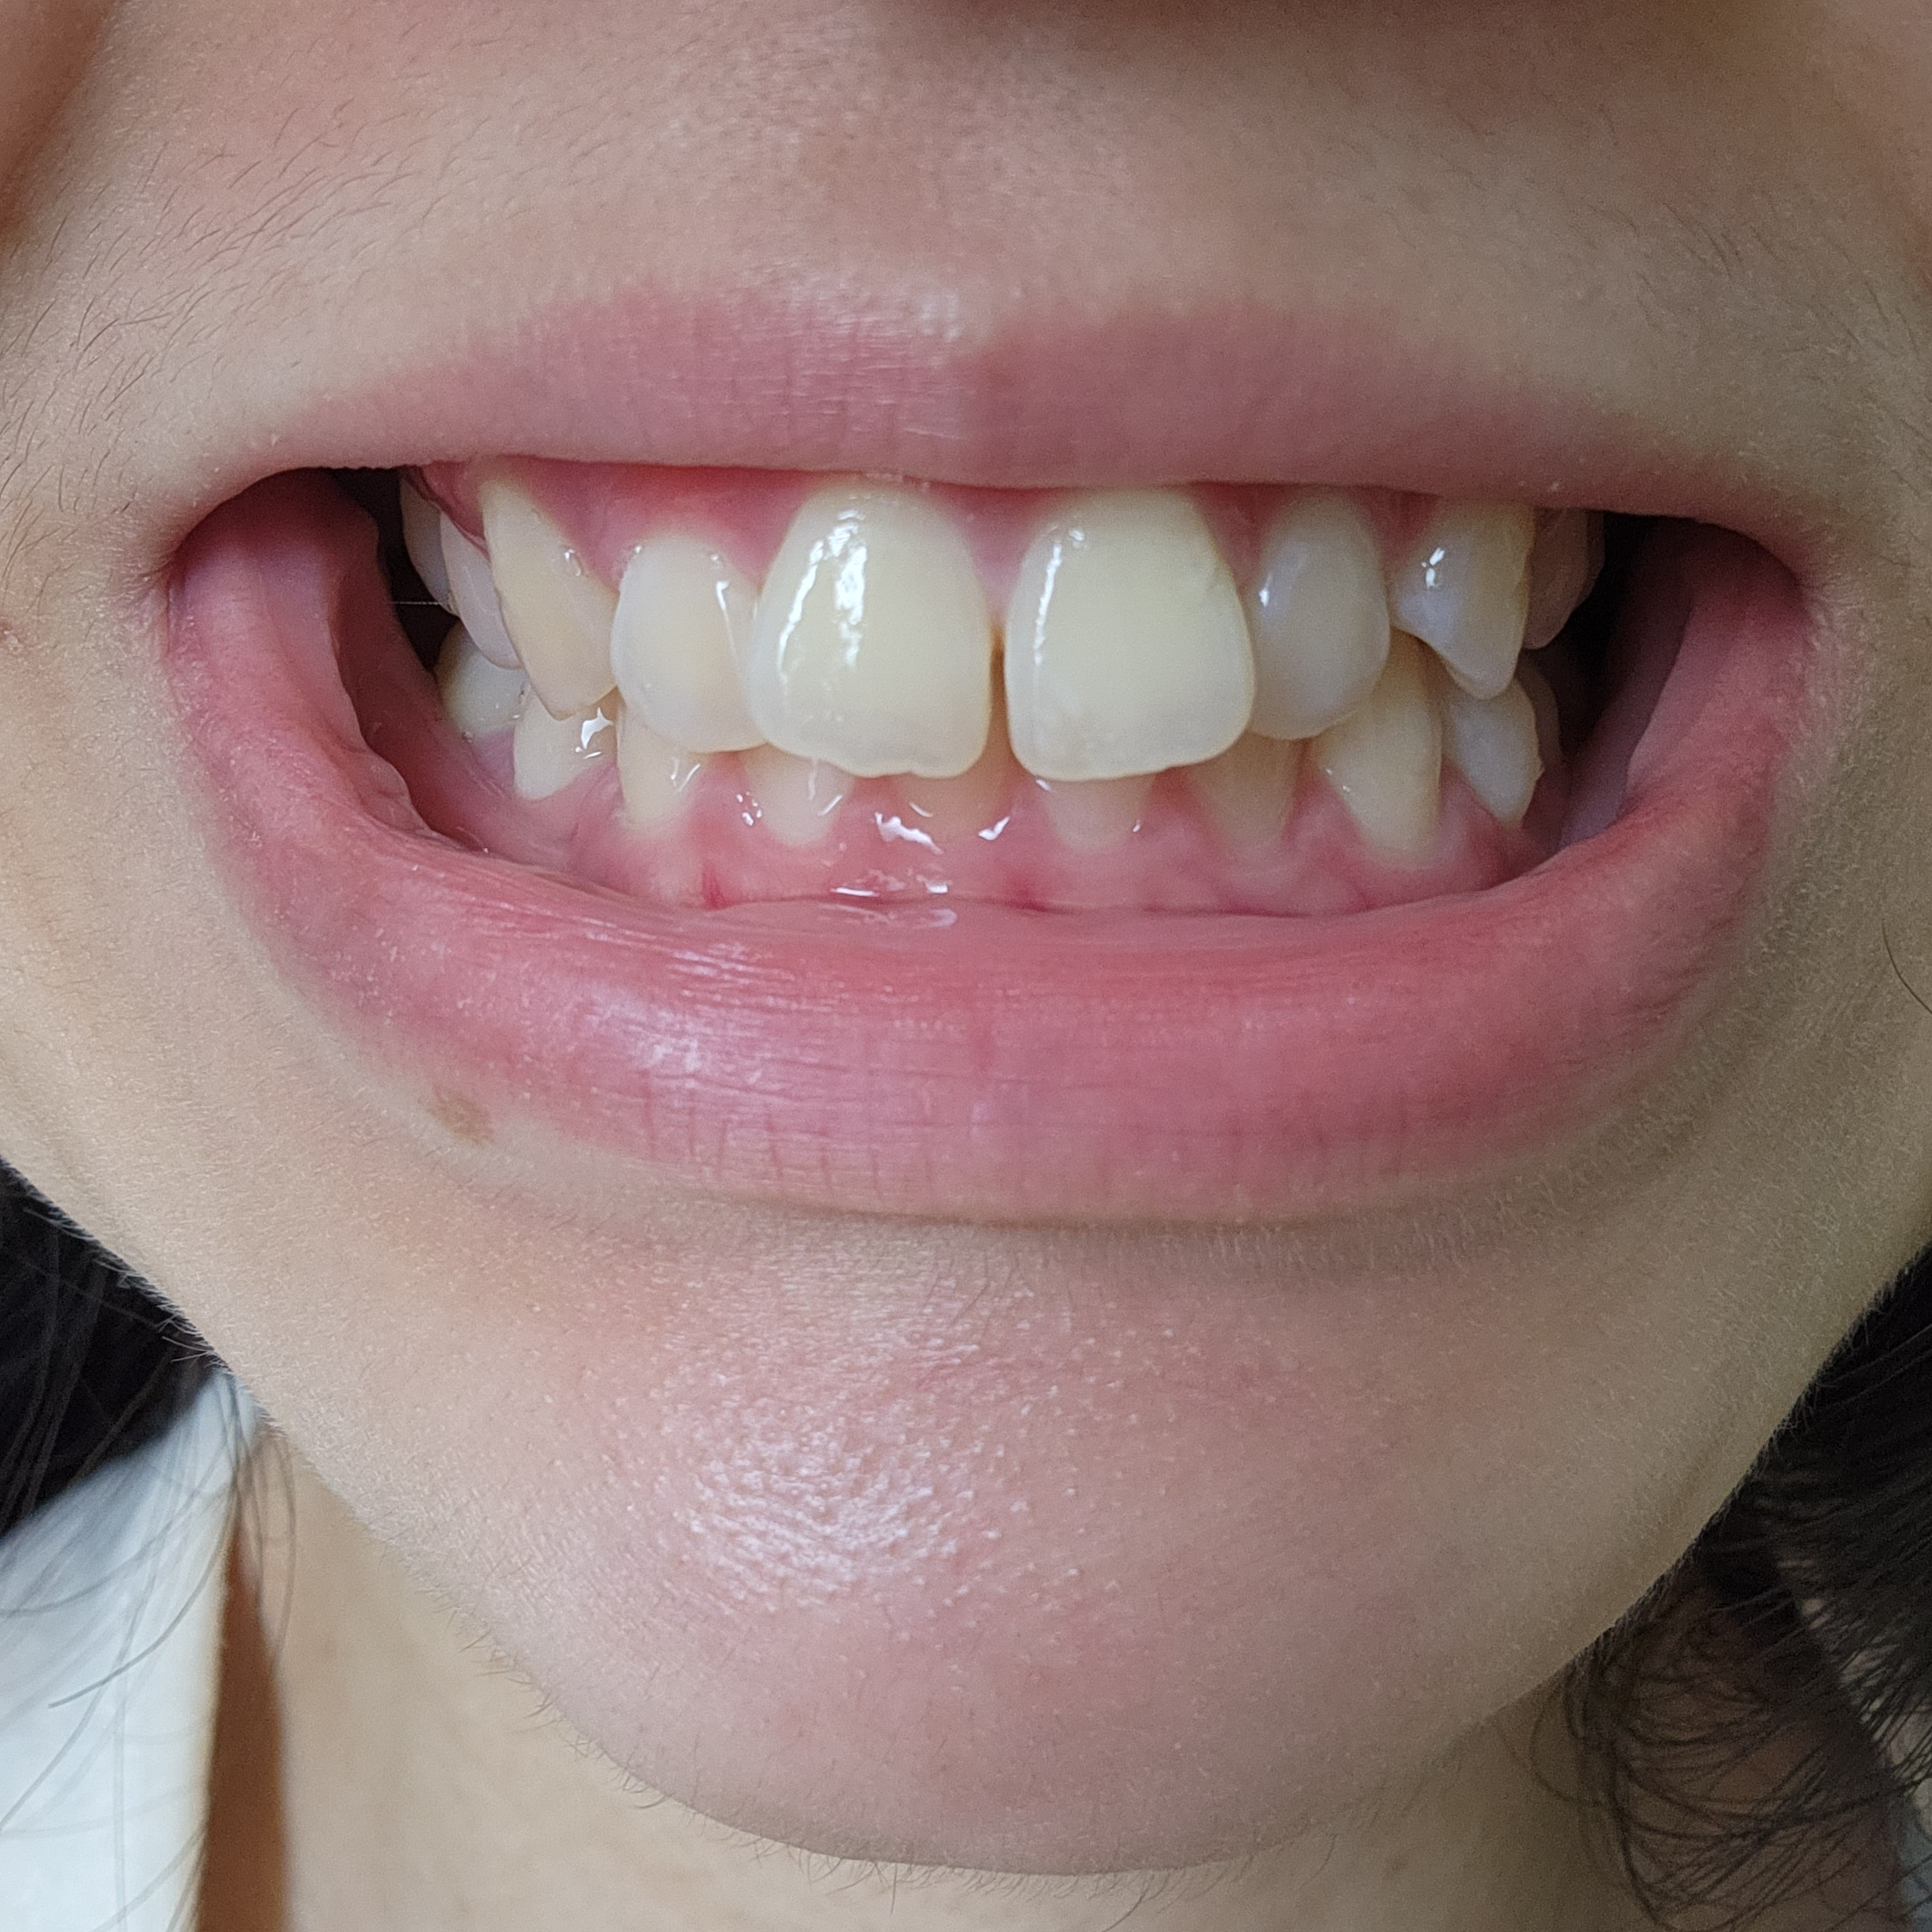teeth: (1021, 488, 1249, 773), (757, 494, 978, 775), (612, 550, 752, 741), (1263, 517, 1382, 706), (490, 504, 598, 694), (1421, 490, 1522, 674), (1339, 667, 1431, 839), (1453, 699, 1527, 807), (741, 757, 824, 851), (1200, 752, 1286, 840), (1039, 782, 1134, 862), (518, 706, 603, 780), (899, 759, 996, 819), (446, 540, 499, 640), (623, 725, 694, 798)
